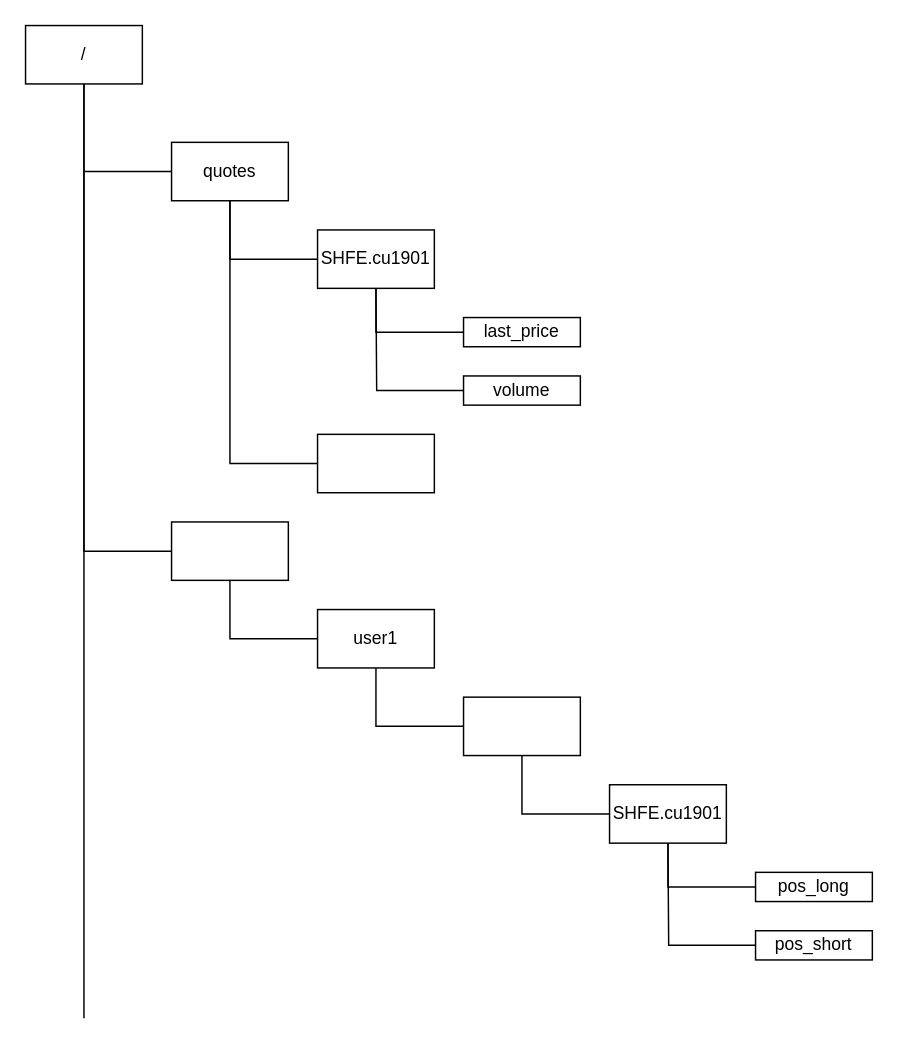
This 898x1045 diagram has some shape labels left out. Here are the shapes that lost their labels. From the top down, the box of each, then its label:
(316, 433, 434, 493): SHFE.cu1902
(170, 520, 288, 580): trade
(462, 696, 580, 756): positions
